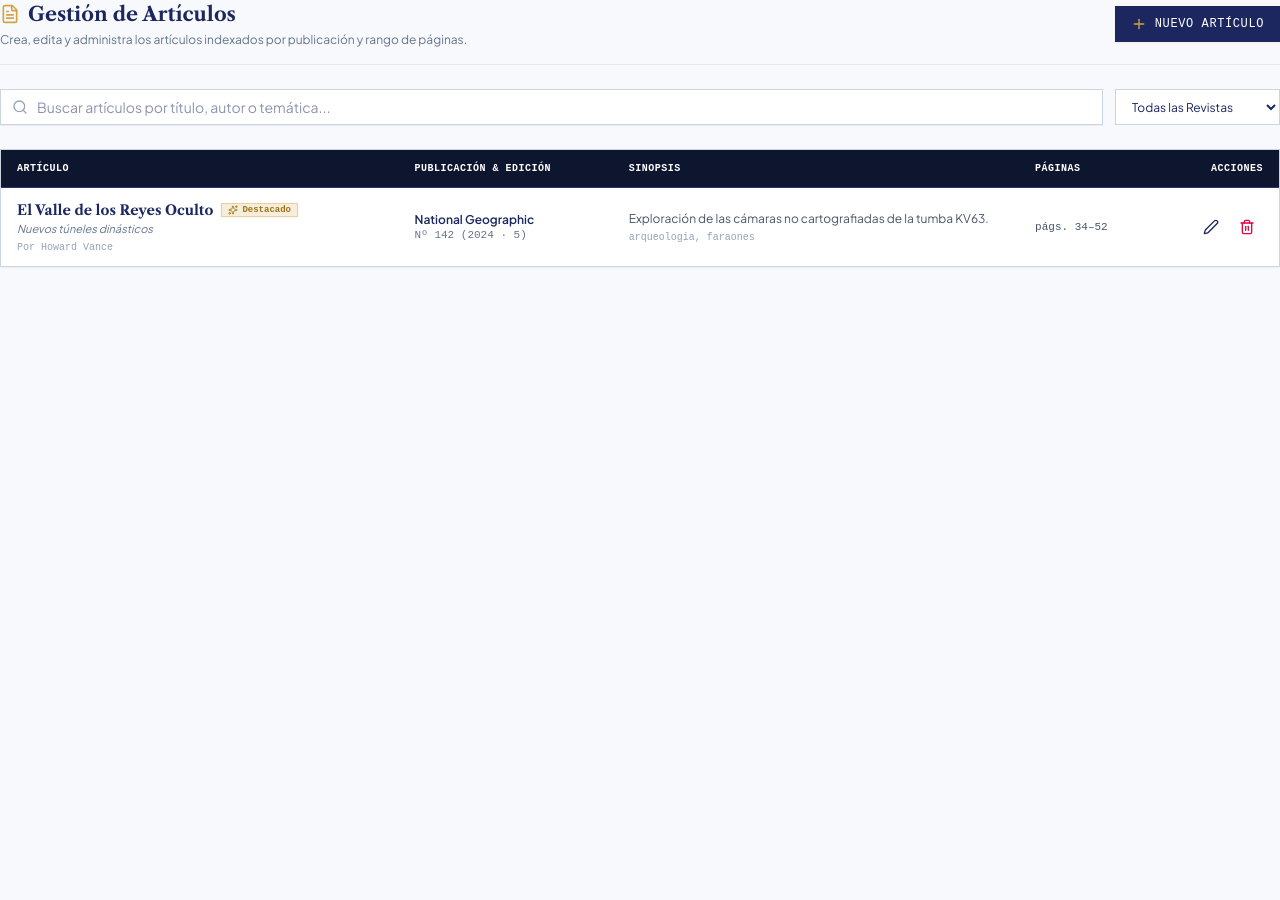
ArticleManagementSection Component › opens edit modal with prefilled data
Click the button with test id "article-edit-btn-100" at point(1211, 227), box x1=1195 y1=211 x2=1227 y2=243
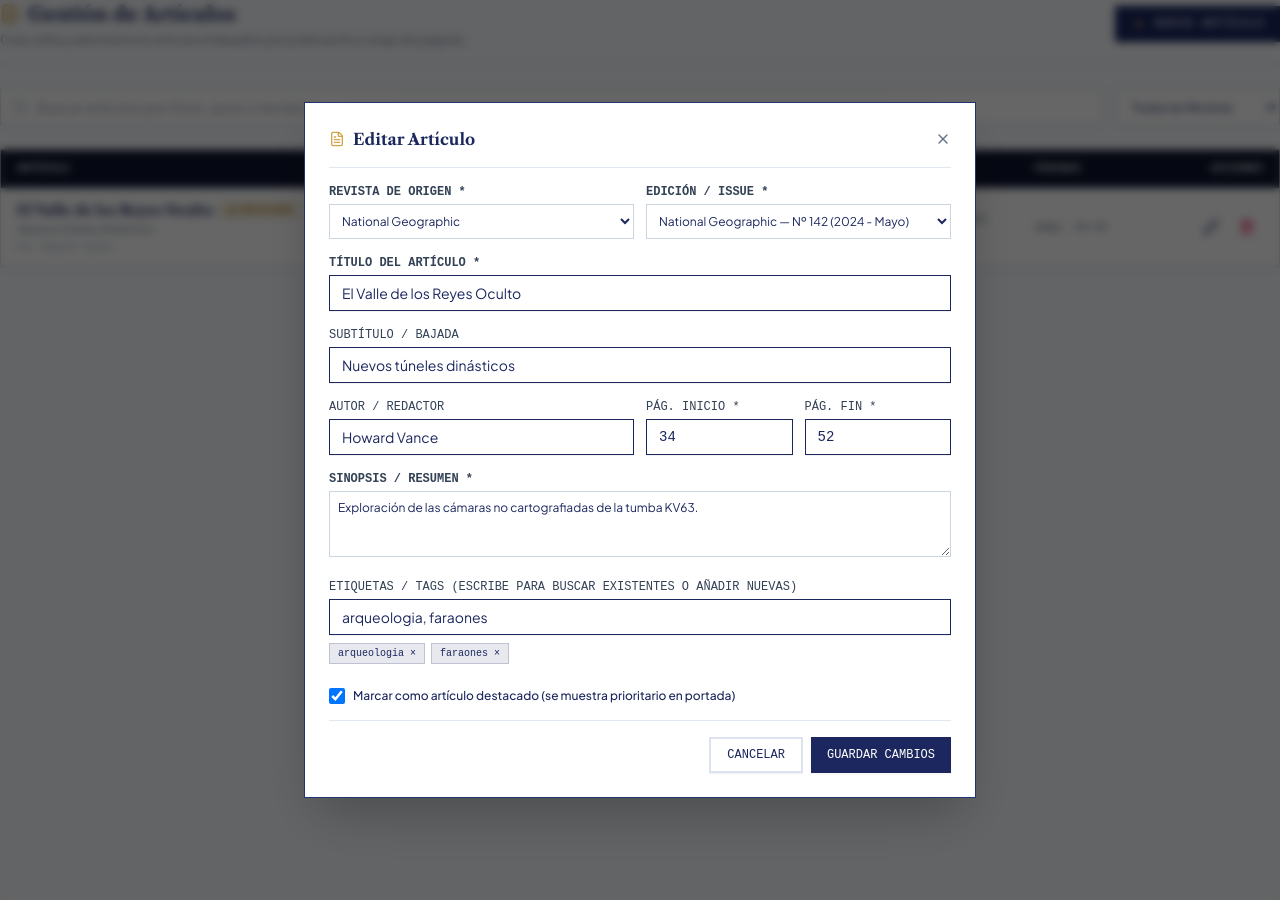
Expected: the element with test id "article-form-modal" is shown
Expected: the field with test id "article-form-title" holds "El Valle de los Reyes Oculto", x1=329 y1=275 x2=951 y2=311
Expected: the button with test id "article-submit-btn" reads "Guardar Cambios", x1=811 y1=737 x2=951 y2=773
